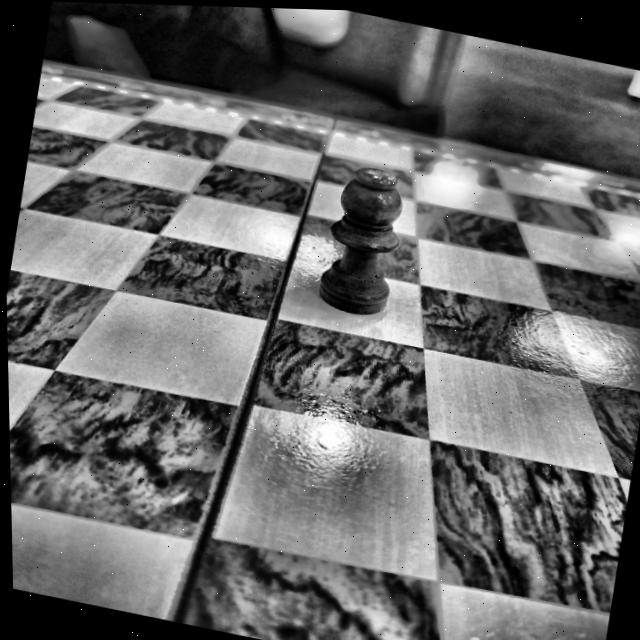black-bishop: (319, 168, 403, 314)
